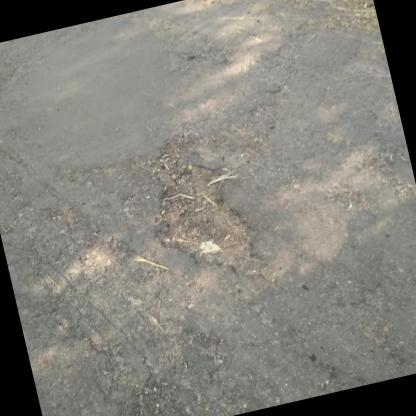pothole: (130, 119, 273, 299)
